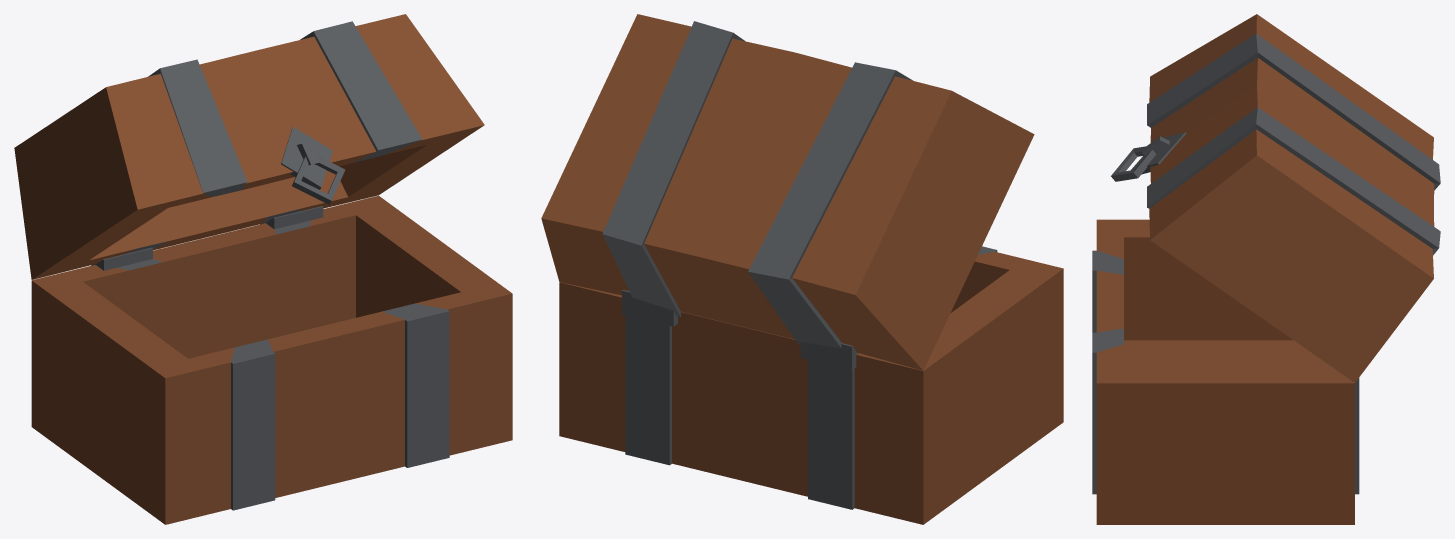
Rendered from Chest.fbx.
The picture shows the model from 3 angles, left to right: view 1: azimuth 30°, elevation 25°; view 2: azimuth 150°, elevation 25°; view 3: azimuth 270°, elevation 25°; orthographic projection. The views are drawn at different scales.
Parts seen in each view (by area): view 1: Cube.001, Cube; view 2: Cube, Cube.001; view 3: Cube, Cube.001.
Boxes of the visible parts, left/top/right/bottom form: Cube.001: left=31, top=195, right=512, bottom=524; Cube: left=14, top=14, right=484, bottom=279; Cube: left=541, top=14, right=1034, bottom=370; Cube.001: left=559, top=246, right=1063, bottom=524; Cube: left=1111, top=14, right=1440, bottom=382; Cube.001: left=1092, top=219, right=1359, bottom=524.
Size of the model in its own units: 81.57 by 84.71 by 73.43.
